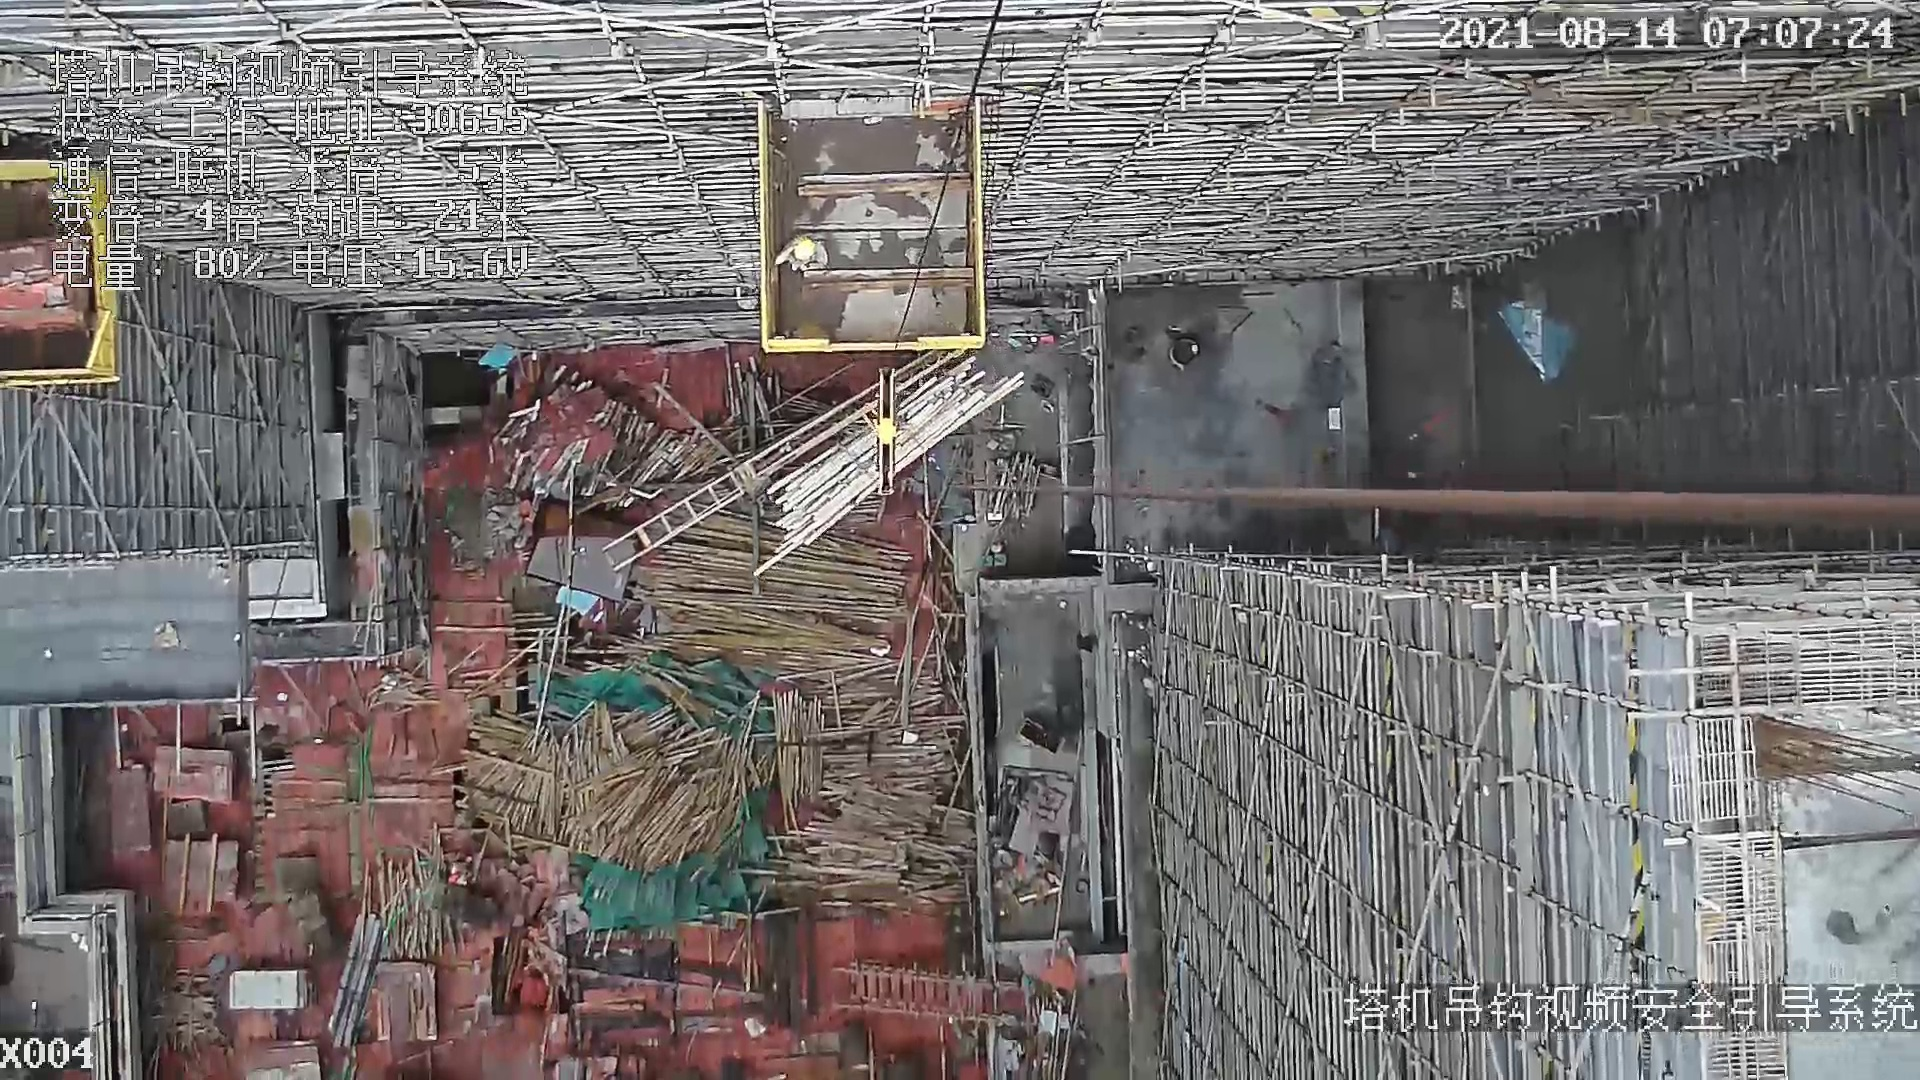helmet: (794, 240, 815, 262)
hook: (869, 362, 906, 505)
person: (773, 227, 835, 282)
